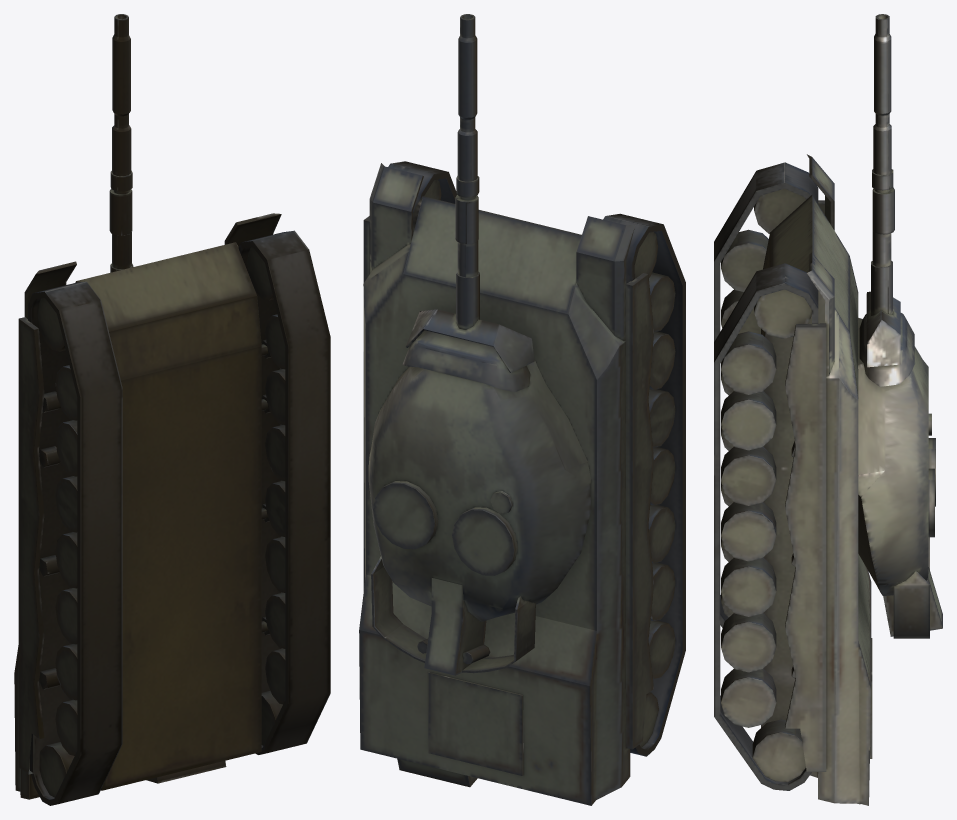
The model's file is Leopard_A1A1.fbx.
3 views of the same model, side by side, from view 1: azimuth 30°, elevation 25°; view 2: azimuth 150°, elevation 25°; view 3: azimuth 270°, elevation 25° (orthographic). The views are drawn at different scales.
Visible parts, largest first — view 1: Leopard_A1A1 Body, Leopard_A1A1 Turret; view 2: Leopard_A1A1 Body, Leopard_A1A1 Turret; view 3: Leopard_A1A1 Body, Leopard_A1A1 Turret.
Part boxes in pixels (bbox=[...]): Leopard_A1A1 Body: bbox=[14, 213, 330, 805]; Leopard_A1A1 Turret: bbox=[109, 14, 133, 272]; Leopard_A1A1 Body: bbox=[359, 161, 685, 805]; Leopard_A1A1 Turret: bbox=[368, 14, 591, 675]; Leopard_A1A1 Body: bbox=[714, 154, 872, 805]; Leopard_A1A1 Turret: bbox=[858, 14, 942, 638].
Bounding box in the file's own units: 133 × 369 × 102.
